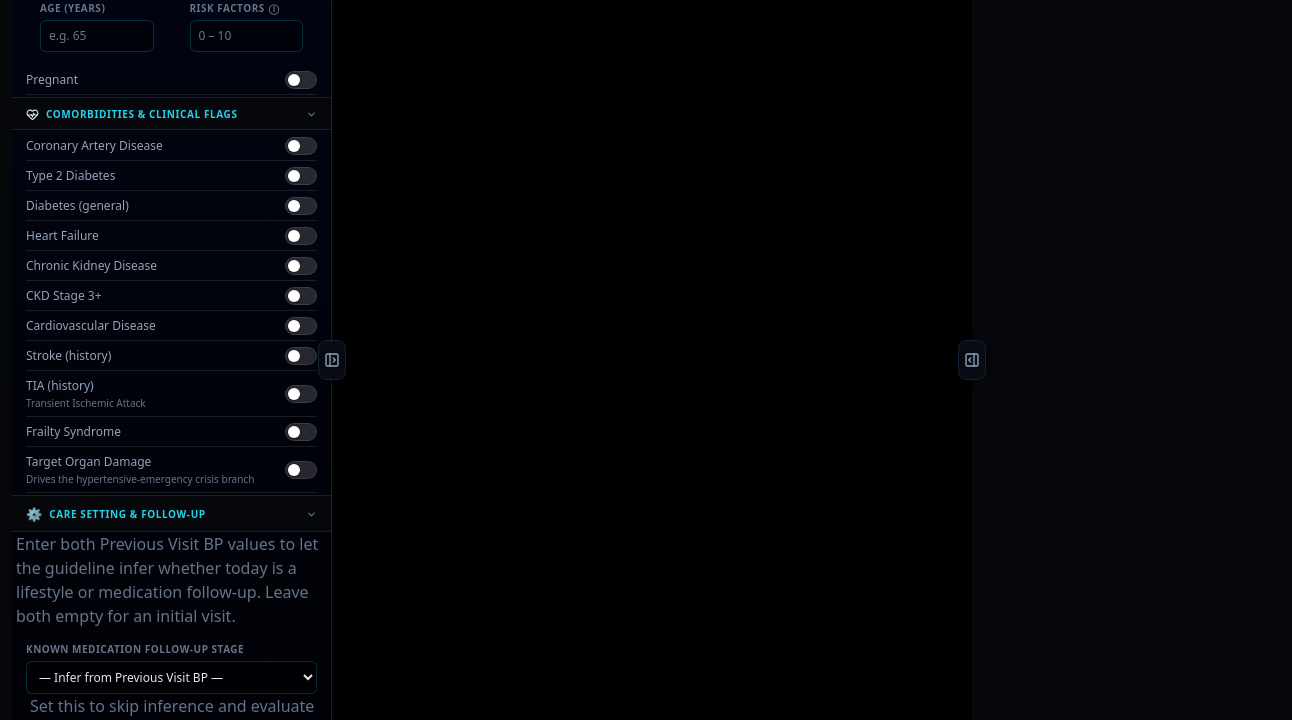
Test: TreeWorkspace mobile drawers › keeps only one mobile drawer open at a time
(page scrolled)
Click the button named "Show patient panel".
click(332, 360)  # box [318,340,346,380]
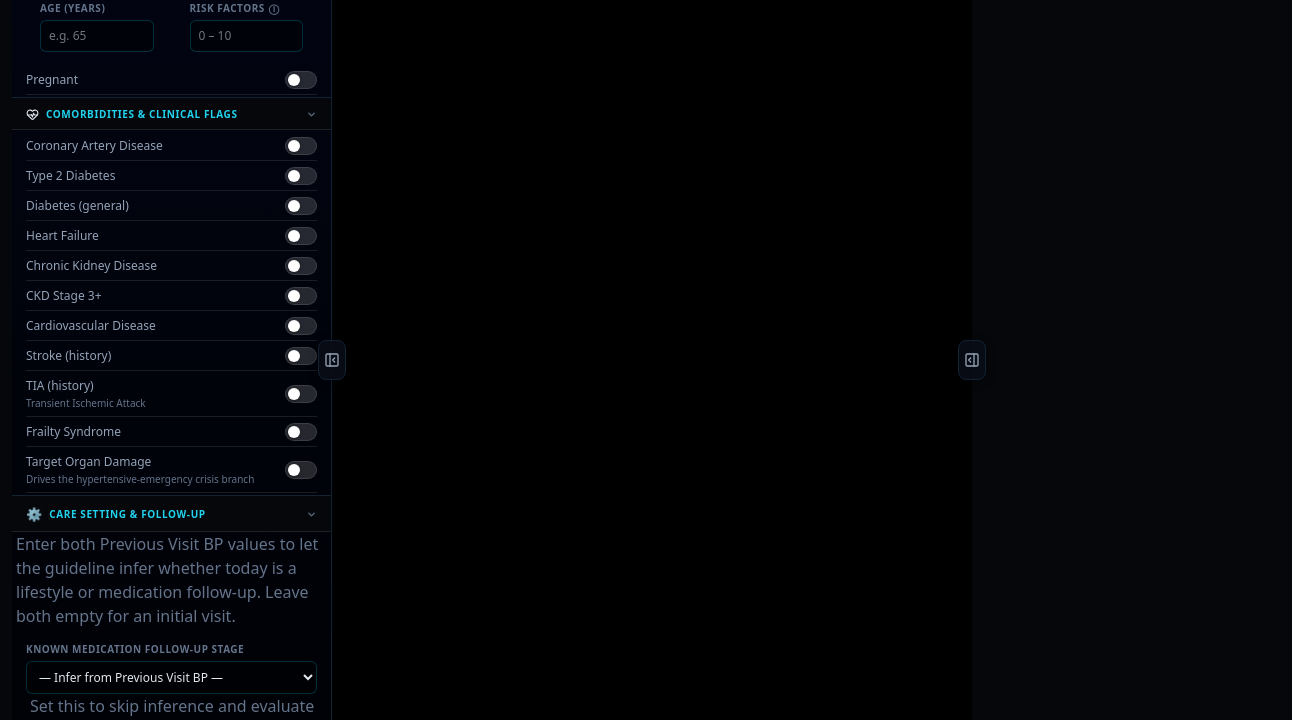
Click the button named "Show details panel".
click(972, 360)  # box [958,340,986,380]
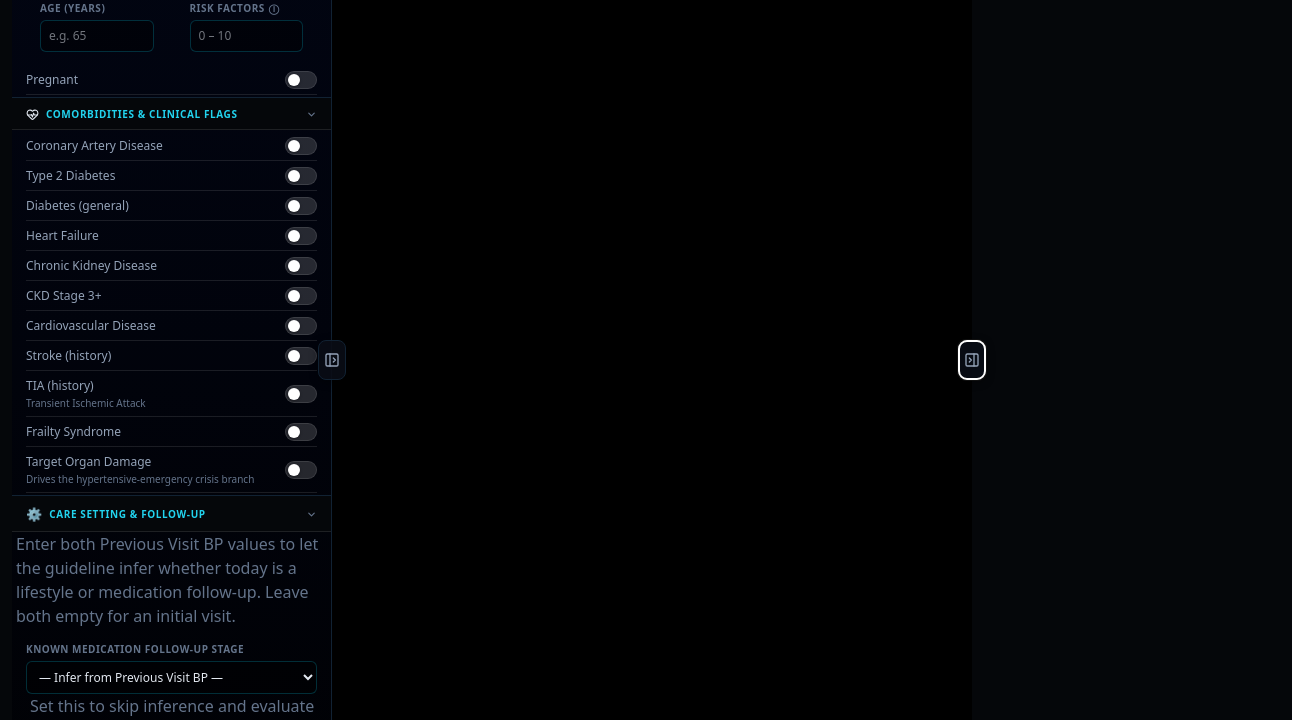
Expected: the button named "Hide details panel" is expanded, [958,340,986,380]
